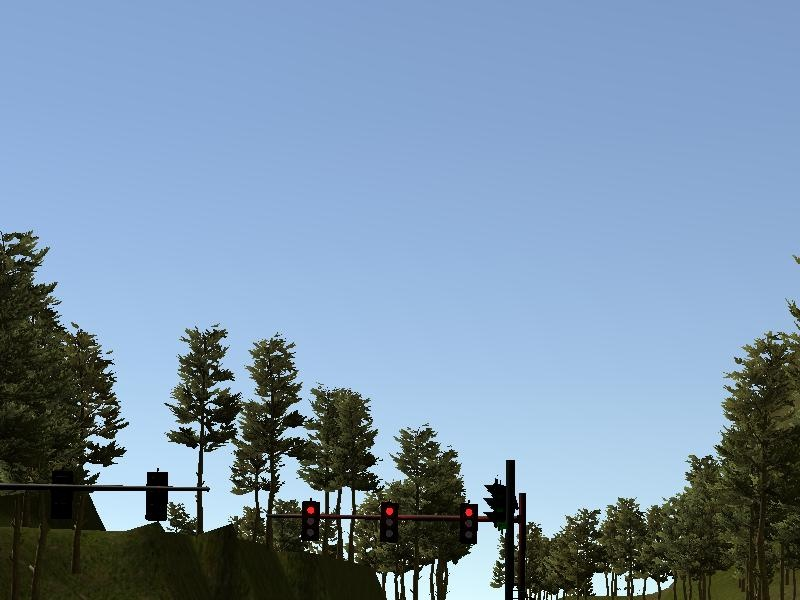Red: (379, 502, 398, 543), (459, 503, 478, 544), (301, 500, 319, 542)
